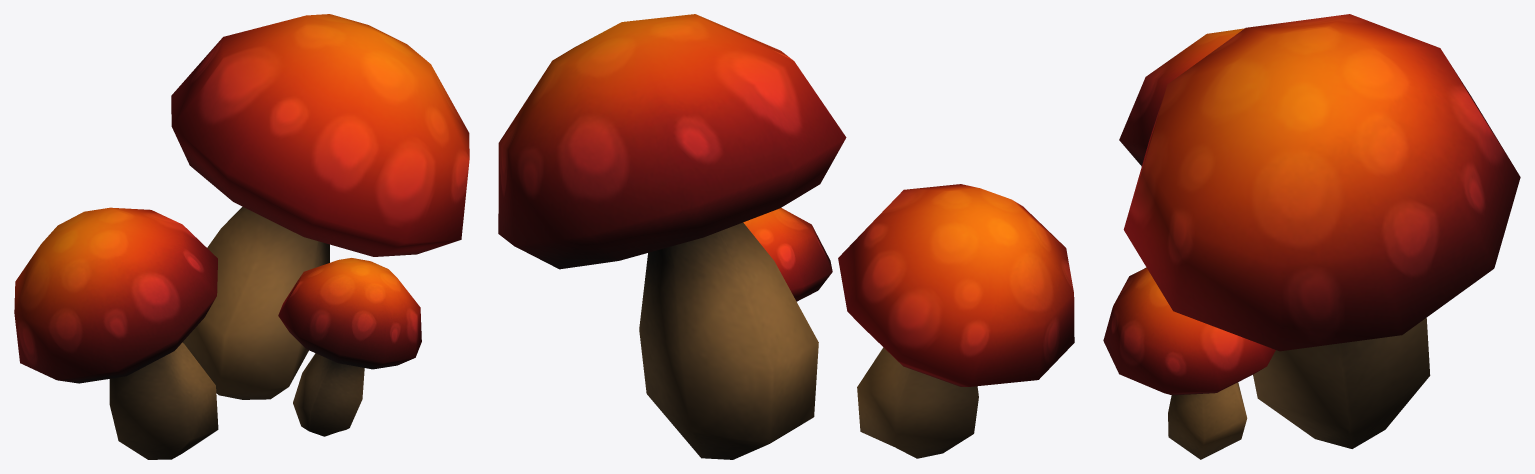
File: Mushroom_01Group.FBX
The picture shows the model from 3 angles, left to right: view 1: azimuth 30°, elevation 25°; view 2: azimuth 150°, elevation 25°; view 3: azimuth 270°, elevation 25°; orthographic projection. The views are drawn at different scales.
Parts seen in each view (by area): view 1: Mushroom_01Group; view 2: Mushroom_01Group; view 3: Mushroom_01Group.
Part boxes in pixels (<box>): Mushroom_01Group: <box>14,14,469,459</box>; Mushroom_01Group: <box>498,14,1074,459</box>; Mushroom_01Group: <box>1103,14,1520,459</box>.
Size of the model in its own units: 0.4235 by 0.3234 by 0.2791.
